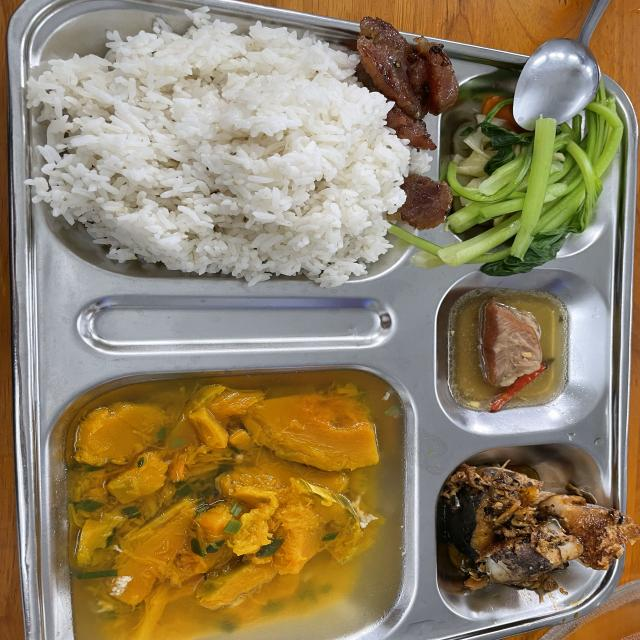canh_cai: (489, 102, 612, 268)
com_trang: (50, 30, 386, 268)
